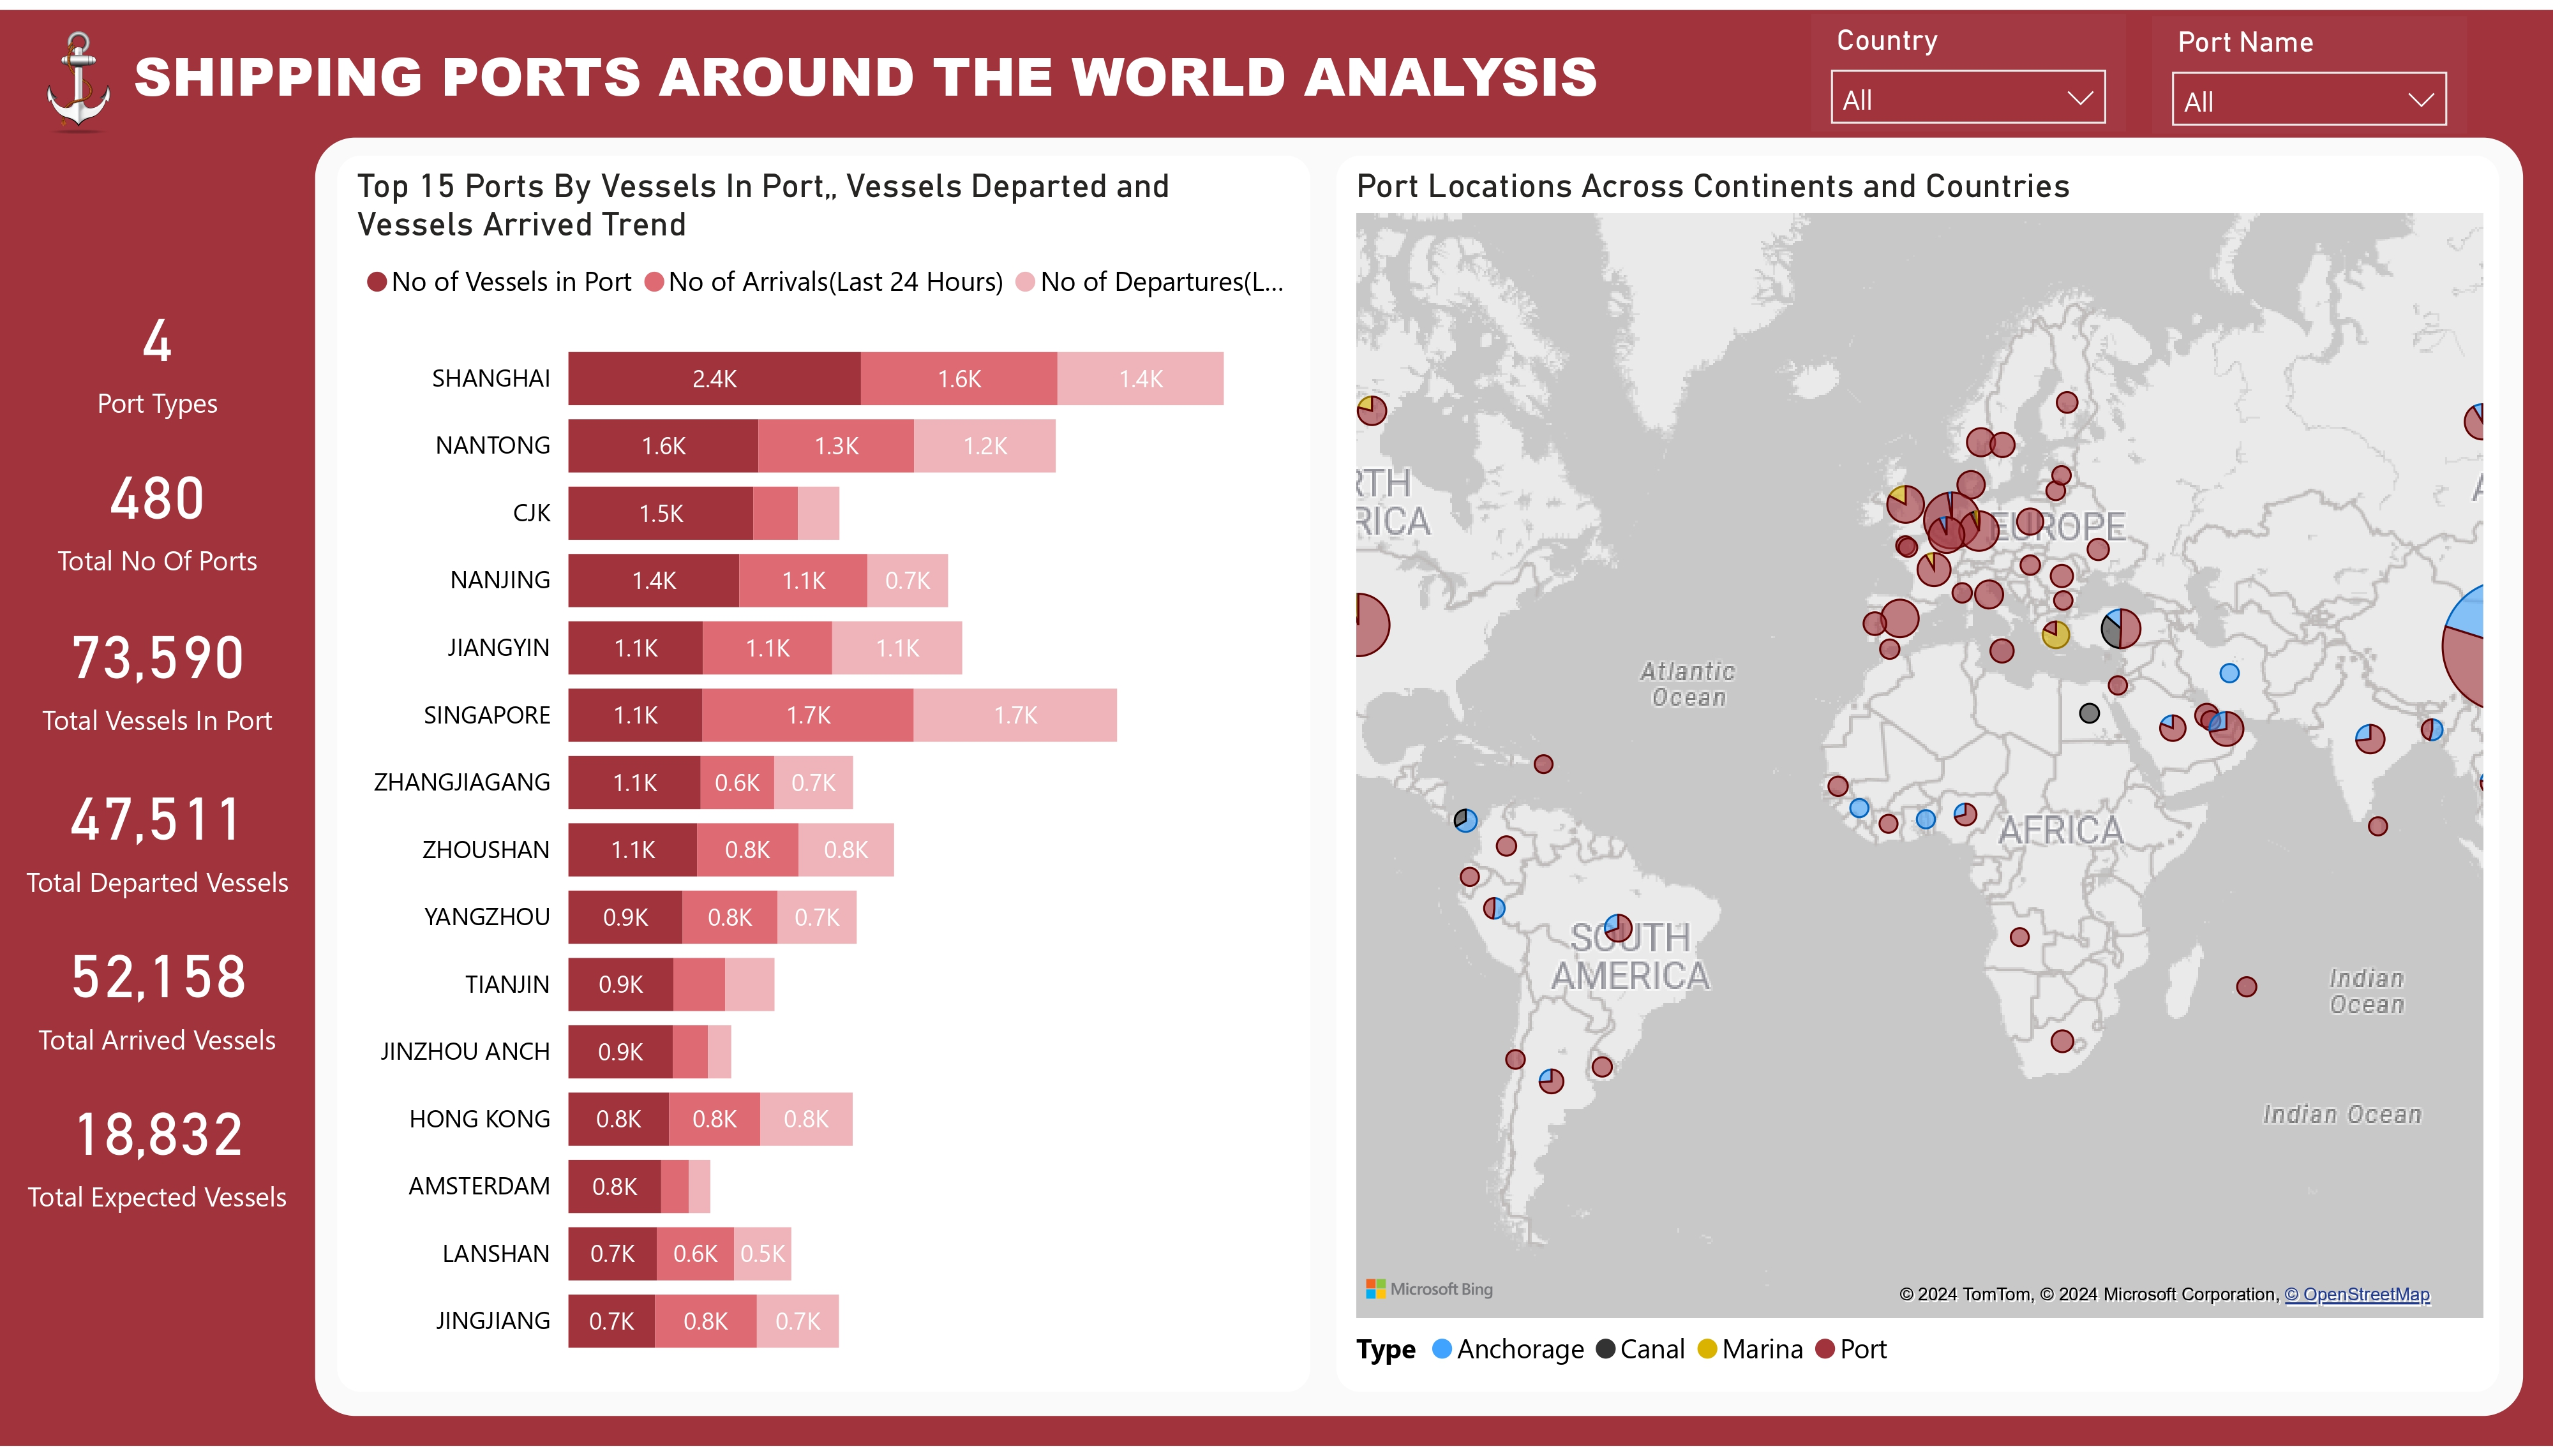

Layout of this report page (visuals, bound fields, positions):
{"tool":"powerbi","page":{"name":"REPORT 2","canvas":[1280,720],"ordinal":1},"visuals":[{"type":"shape","title":"Top 10 Ports By Vessels In Portssels in Port by Port Name","box":[157.7,63.7,1107.2,640.8],"z":0},{"type":"textbox","box":[61.9,9,805.2,59.4],"z":1000},{"type":"card","fields":{"Values":["DAX.Total No Of Ports"]},"box":[1.7,90.6,157.7,78.8],"z":2000},{"type":"card","fields":{"Values":["DAX.Formatted Total Vessels In Port"]},"box":[1.7,169.4,157.7,78.8],"z":3000},{"type":"card","fields":{"Values":["DAX.Formatted Total Departed Vesselsr"]},"box":[1.7,248.3,157.7,78.8],"z":4000},{"type":"card","fields":{"Values":["DAX.Formatted Total Arrived Vessels"]},"box":[1.7,327.1,157.7,78.8],"z":5000},{"type":"card","fields":{"Values":["DAX.Formatted Total Expected Vessels"]},"box":[1.7,406,157.7,78.8],"z":6000},{"type":"card","fields":{"Values":["DAX.Port Types"]},"box":[1.7,484.8,157.7,78.8],"z":7000},{"type":"barChart","title":"Top 20 Ports By Vessels In Port,, Vessels Departed and Vessels Arrived Trend","fields":{"Category":["Port_Data.Port Name"],"Y":["Sum(Port_Data.Vessels in Port)","Sum(Port_Data.Arrivals(Last 24 Hours))","Sum(Port_Data.Departures(Last 24 Hours))"]},"box":[168.9,73.1,487.6,620],"z":8000},{"type":"map","title":"Port Locations Across Continents and Countries","fields":{"Category":["Port_Data.Country"],"Size":["Sum(Port_Data.Vessels in Port)"],"Series":["Port_Data.Type"]},"box":[670.5,73.1,583.4,620],"z":9000},{"type":"slicer","fields":{"Values":["Port_Data.Country"]},"box":[907.6,1.7,157.7,58.7],"z":10000},{"type":"slicer","fields":{"Values":["Port_Data.Port Name"]},"box":[1078.7,3.4,157.7,58.7],"z":11000},{"type":"image","box":[0,0,78.7,69.7],"z":12000}]}

Visuals, with their boxes in screenshot pixels (x1, y1, x2, y2), scaled from the page's 1280x720 canvas onto the 2553x1456 screenshot:
"Top 10 Ports By Vessels In Portssels in Port by Port Name" shape: [315, 129, 2523, 1425]
textbox: [123, 19, 1730, 138]
card - DAX.Total No Of Ports: [3, 183, 318, 343]
card - DAX.Formatted Total Vessels In Port: [3, 343, 318, 502]
card - DAX.Formatted Total Departed Vesselsr: [3, 502, 318, 662]
card - DAX.Formatted Total Arrived Vessels: [3, 662, 318, 821]
card - DAX.Formatted Total Expected Vessels: [3, 821, 318, 981]
card - DAX.Port Types: [3, 981, 318, 1140]
"Top 20 Ports By Vessels In Port,, Vessels Departed and Vessels Arrived Trend" barChart: [337, 148, 1310, 1402]
"Port Locations Across Continents and Countries" map: [1337, 148, 2501, 1402]
slicer - Port_Data.Country: [1810, 3, 2125, 122]
slicer - Port_Data.Port Name: [2152, 7, 2466, 126]
image: [0, 0, 157, 141]
